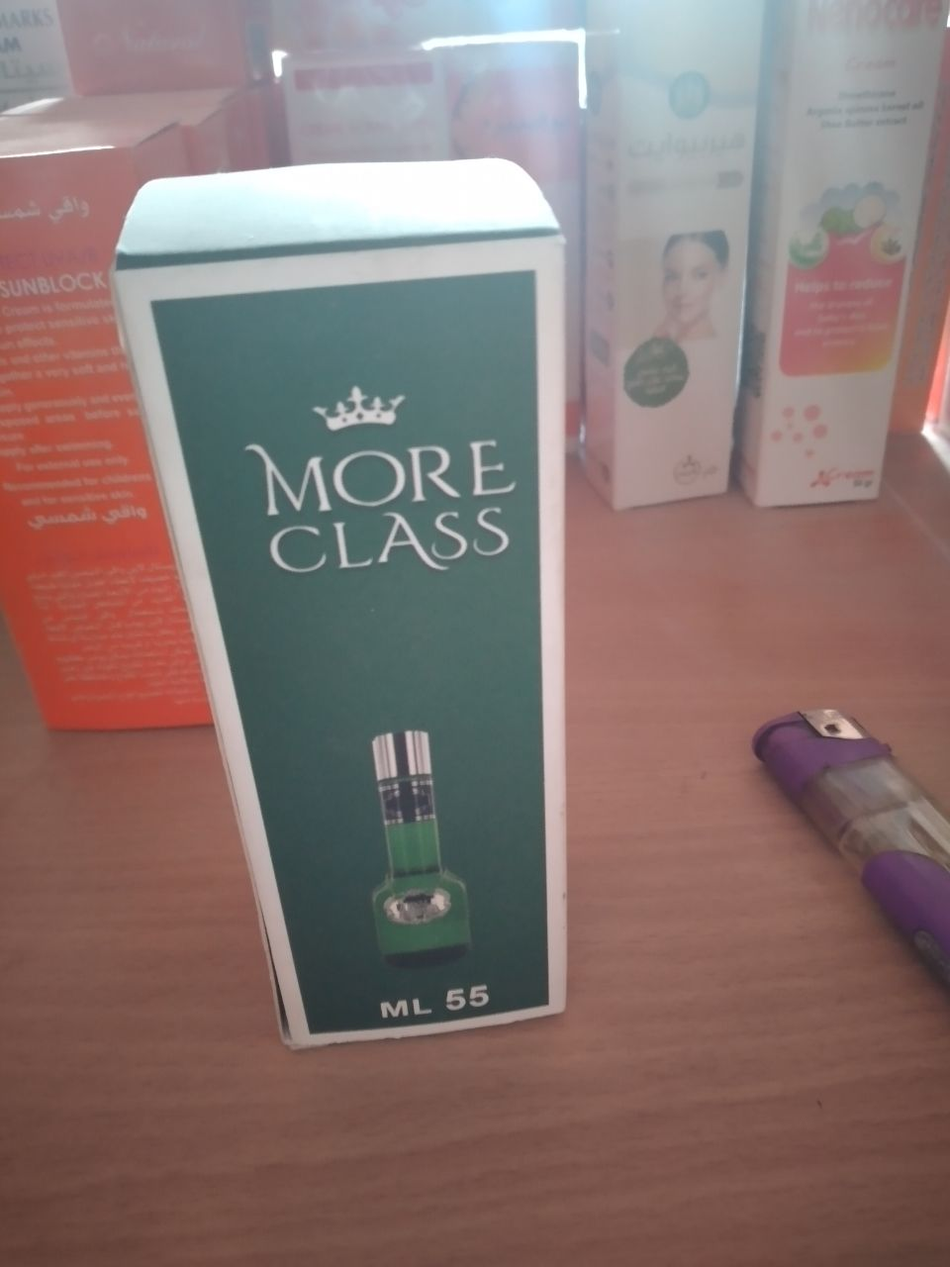Medicine: (122, 224, 643, 1046), (0, 99, 191, 756), (742, 0, 950, 531), (548, 0, 749, 518)
